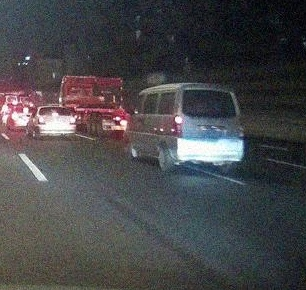L_light: (174, 115, 183, 135), (39, 116, 46, 124)
R_light: (239, 118, 245, 137), (69, 117, 76, 125)
T_light: (204, 89, 217, 93), (52, 113, 59, 115)
night-brake: (38, 105, 76, 140)
night-left: (172, 82, 246, 171)
